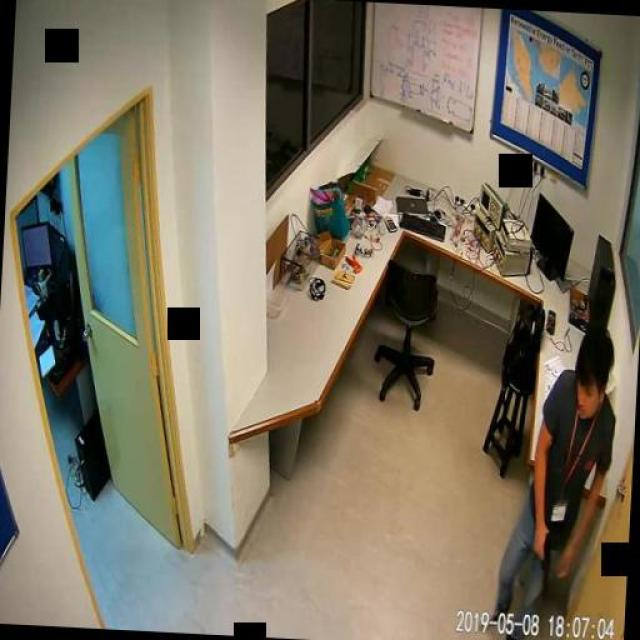gun: (528, 525, 552, 601)
